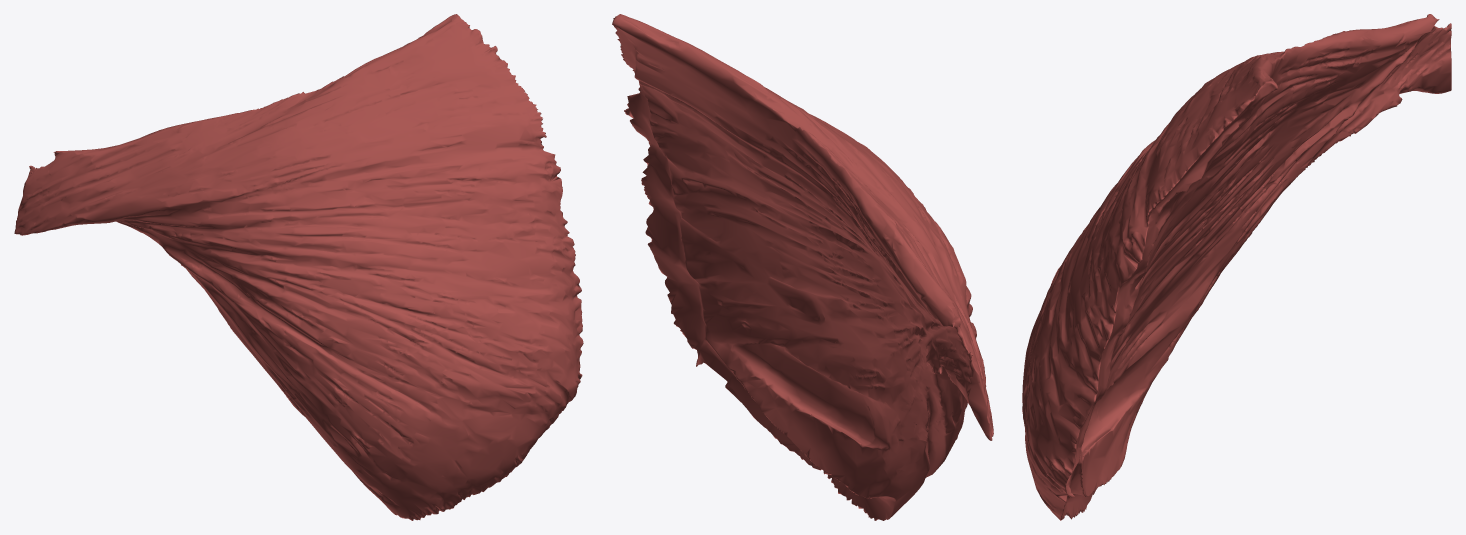
Rendered from FMA79979.glb.
3 renders of one model, left to right at view 1: azimuth 30°, elevation 25°; view 2: azimuth 150°, elevation 25°; view 3: azimuth 270°, elevation 25°, orthographic. The views are drawn at different scales.
Parts seen in each view (by area): view 1: FMA79979; view 2: FMA79979; view 3: FMA79979.
Boxes of the visible parts, x1,y1,x2,y2 form: FMA79979: (14,14,583,520); FMA79979: (612,14,993,520); FMA79979: (1022,14,1451,520).
Size of the model in its own units: 0.1841 by 0.1764 by 0.1379.
